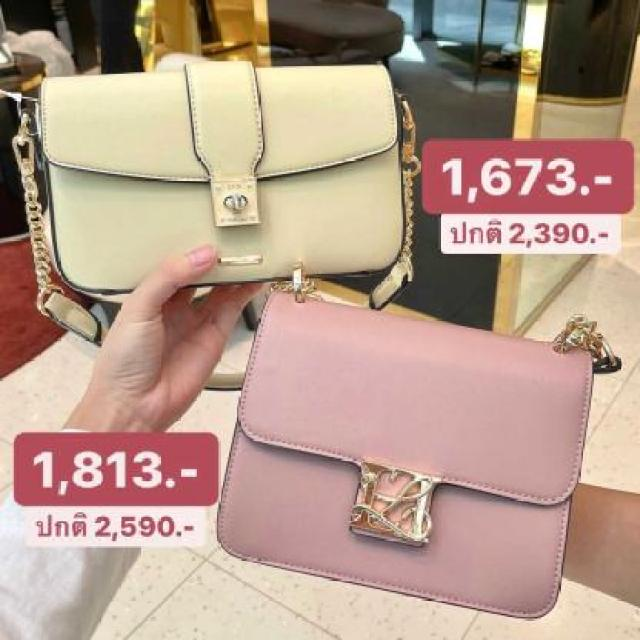Bag: (204, 275, 598, 640), (33, 24, 424, 304)
